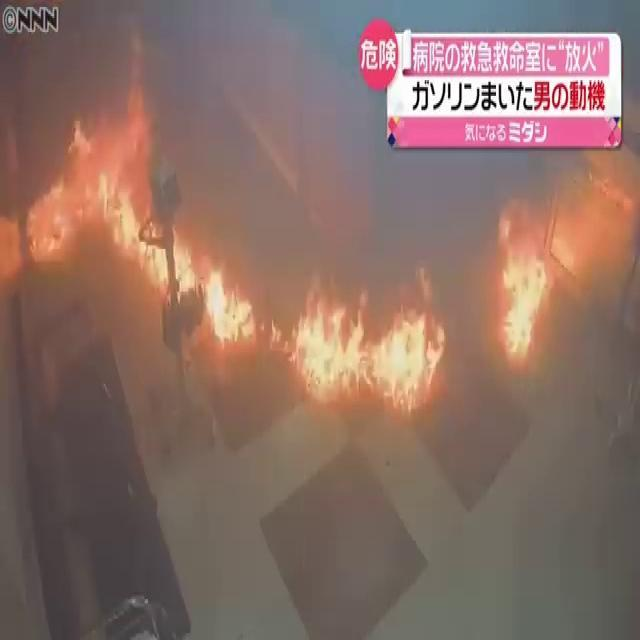Fire: (26, 68, 258, 380), (489, 154, 636, 368), (286, 276, 448, 410)
